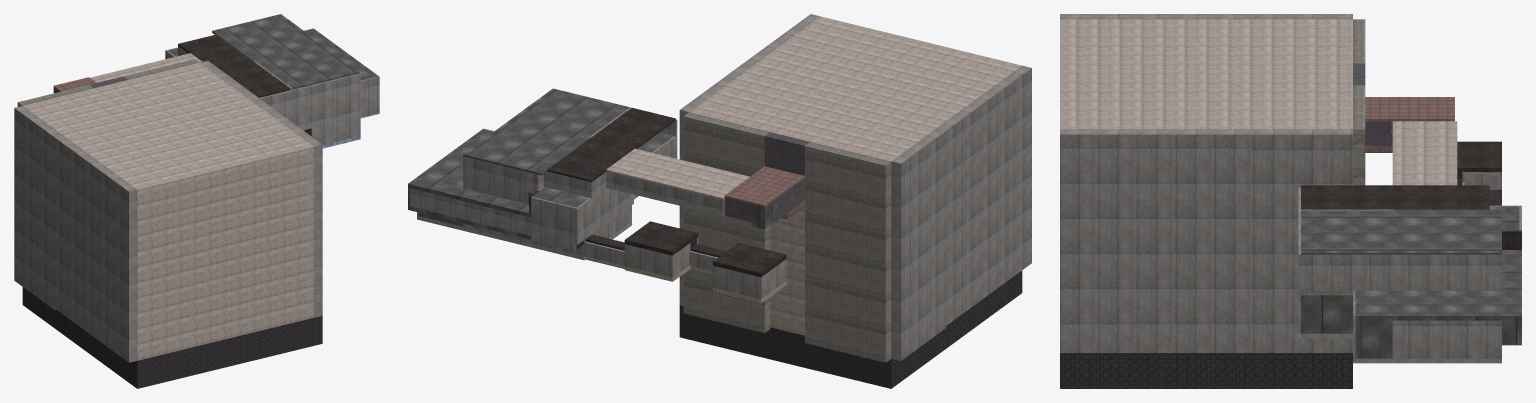
The picture shows the model from 3 angles, left to right: view 1: azimuth 30°, elevation 25°; view 2: azimuth 150°, elevation 25°; view 3: azimuth 270°, elevation 25°; orthographic projection. The views are drawn at different scales.
Parts seen in each view (by area): view 1: entity0_brush198, entity0_brush197, entity0_brush195, entity0_brush196, entity0_brush187, entity0_brush113, entity0_brush125, entity0_brush108, entity0_brush194, entity0_brush59, entity0_brush100, entity0_brush192 (+8 smaller); view 2: entity0_brush197, entity0_brush195, entity0_brush184, entity0_brush196, entity0_brush187, entity0_brush182, entity0_brush113, entity0_brush125, entity0_brush162, entity0_brush199, entity0_brush108, entity0_brush191 (+30 smaller); view 3: entity0_brush194, entity0_brush197, entity0_brush196, entity0_brush183, entity0_brush112, entity0_brush113, entity0_brush125, entity0_brush74, entity0_brush76, entity0_brush162, entity0_brush108, entity0_brush190 (+17 smaller).
Part boxes in pixels (x1=…): entity0_brush198: x1=137, y1=148, x2=314, y2=360; entity0_brush197: x1=23, y1=62, x2=314, y2=191; entity0_brush195: x1=54, y1=135, x2=137, y2=362; entity0_brush196: x1=22, y1=287, x2=322, y2=388; entity0_brush187: x1=14, y1=161, x2=55, y2=309; entity0_brush113: x1=212, y1=14, x2=322, y2=61; entity0_brush125: x1=178, y1=34, x2=290, y2=97; entity0_brush108: x1=256, y1=44, x2=359, y2=89; entity0_brush194: x1=239, y1=90, x2=322, y2=317; entity0_brush59: x1=311, y1=102, x2=360, y2=144; entity0_brush100: x1=311, y1=73, x2=360, y2=113; entity0_brush192: x1=14, y1=106, x2=61, y2=162; entity0_brush197: x1=689, y1=16, x2=1021, y2=161; entity0_brush195: x1=937, y1=65, x2=1031, y2=325; entity0_brush184: x1=805, y1=206, x2=891, y2=362; entity0_brush196: x1=679, y1=270, x2=1022, y2=388; entity0_brush187: x1=891, y1=191, x2=946, y2=360; entity0_brush182: x1=683, y1=207, x2=769, y2=333; entity0_brush113: x1=463, y1=119, x2=589, y2=175; entity0_brush125: x1=547, y1=108, x2=675, y2=182; entity0_brush162: x1=606, y1=148, x2=749, y2=200; entity0_brush199: x1=770, y1=206, x2=804, y2=335; entity0_brush108: x1=511, y1=88, x2=629, y2=137; entity0_brush191: x1=805, y1=142, x2=891, y2=195; entity0_brush194: x1=1060, y1=129, x2=1251, y2=352; entity0_brush197: x1=1060, y1=19, x2=1352, y2=129; entity0_brush196: x1=1060, y1=353, x2=1352, y2=388; entity0_brush183: x1=1251, y1=202, x2=1352, y2=352; entity0_brush112: x1=1355, y1=254, x2=1501, y2=290; entity0_brush113: x1=1395, y1=209, x2=1501, y2=254; entity0_brush125: x1=1301, y1=185, x2=1489, y2=209; entity0_brush74: x1=1355, y1=290, x2=1501, y2=320; entity0_brush76: x1=1392, y1=320, x2=1501, y2=358; entity0_brush162: x1=1392, y1=121, x2=1457, y2=185; entity0_brush108: x1=1301, y1=210, x2=1395, y2=254; entity0_brush190: x1=1251, y1=129, x2=1352, y2=168.
Bounding box in the file's own units: 3472 × 1808 × 2976.
12 materials, 12 textured.
